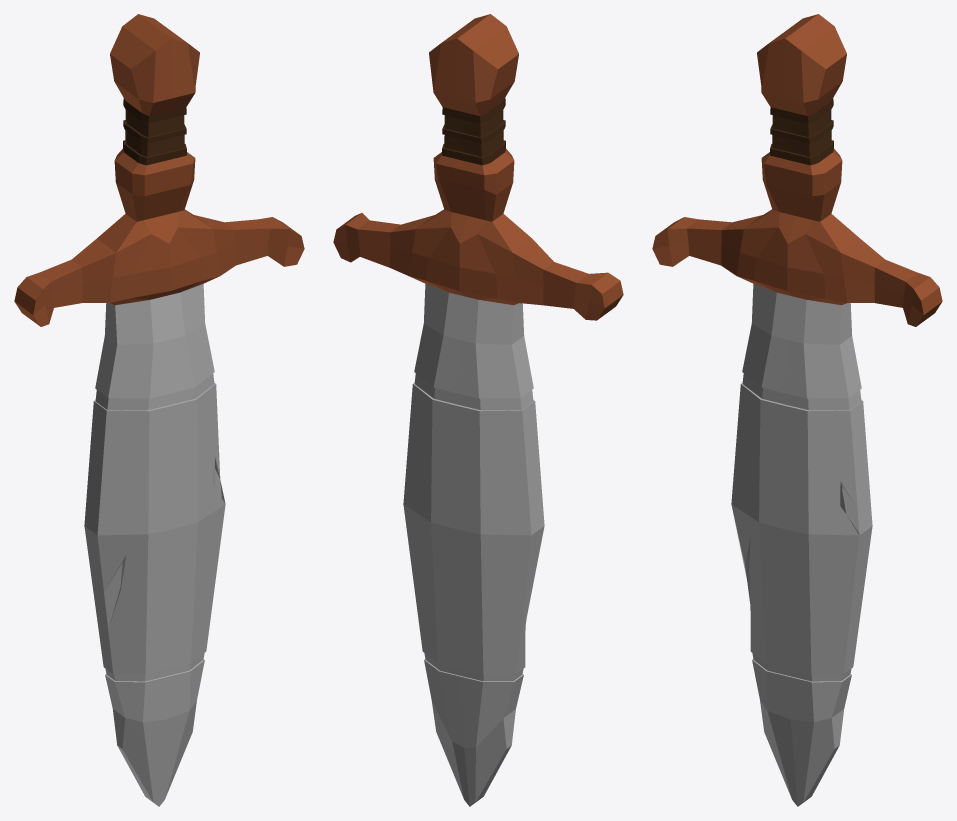
Rendered from Dolch.fbx.
The picture shows the model from 3 angles, left to right: view 1: azimuth 30°, elevation 25°; view 2: azimuth 150°, elevation 25°; view 3: azimuth 330°, elevation 25°; orthographic projection.
Parts seen in each view (by area): view 1: Dolch_001; view 2: Dolch_001; view 3: Dolch_001.
Part boxes in pixels (left/top/right/bottom): Dolch_001: left=14, top=14, right=304, bottom=806; Dolch_001: left=333, top=14, right=623, bottom=806; Dolch_001: left=652, top=14, right=942, bottom=806.
Size of the model in its own units: 122 by 334 by 30.25.
